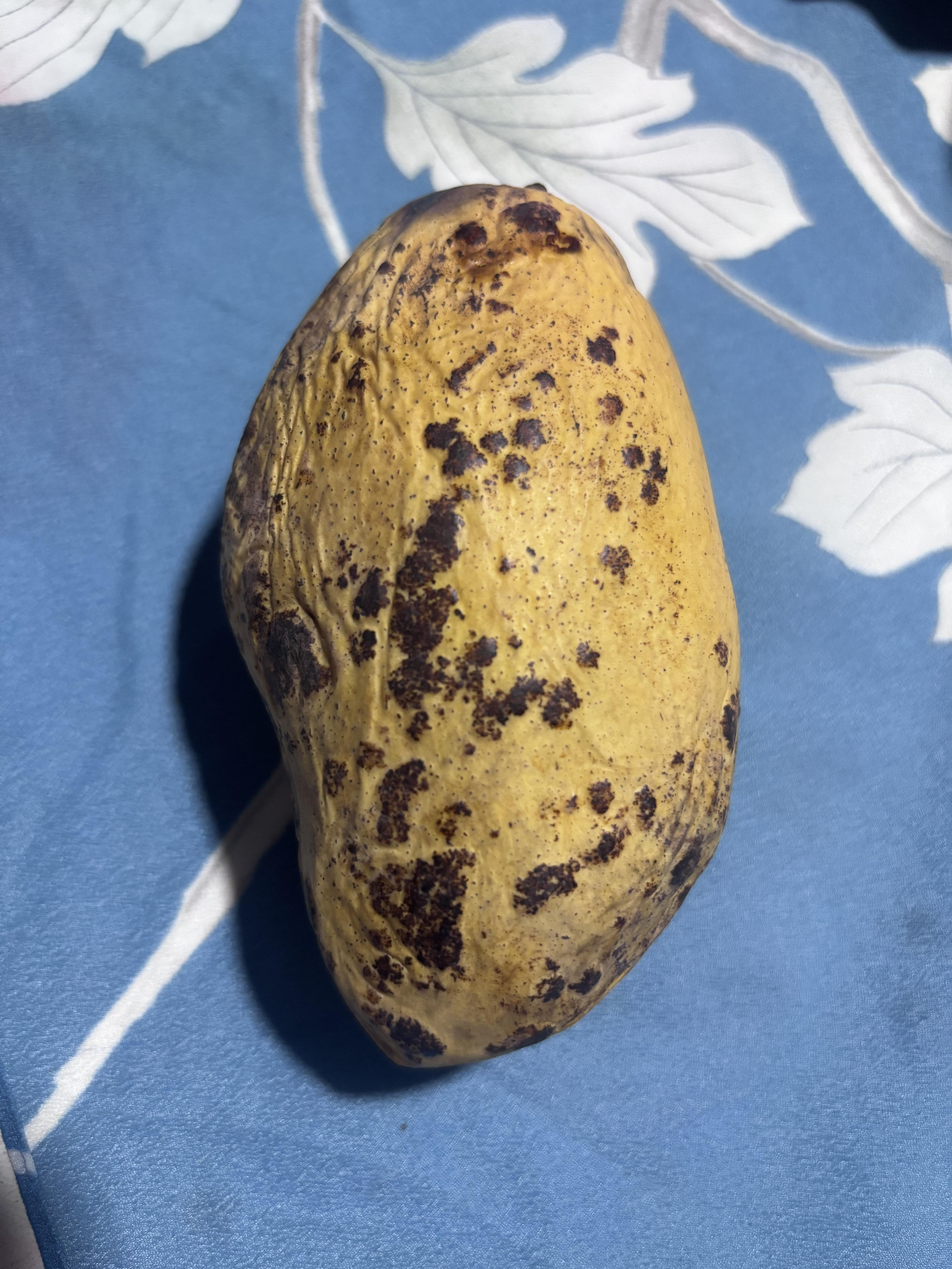mango: (221, 184, 739, 1069)
